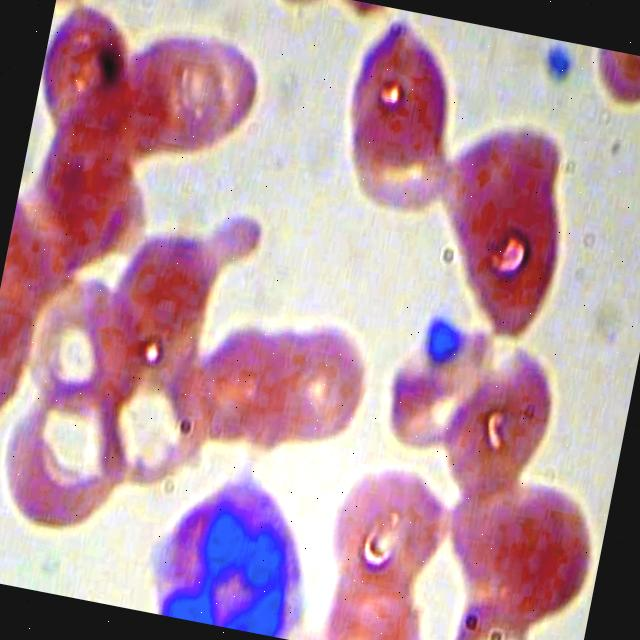Platelets: (414, 304, 468, 364), (538, 38, 588, 89)
RBC: (410, 99, 601, 350), (0, 359, 147, 544), (80, 336, 224, 504), (14, 258, 158, 426), (330, 8, 470, 180), (242, 299, 384, 468), (427, 336, 568, 505), (320, 440, 461, 608), (472, 466, 612, 635)
WBC: (134, 459, 338, 640)
